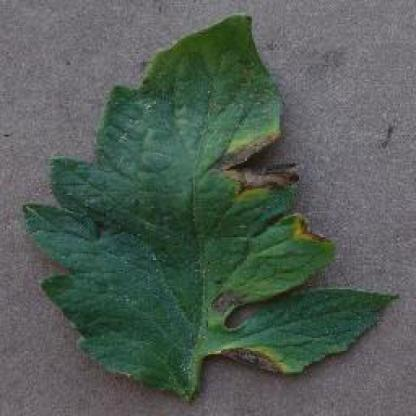Tomato_Blight: (24, 15, 398, 388)
